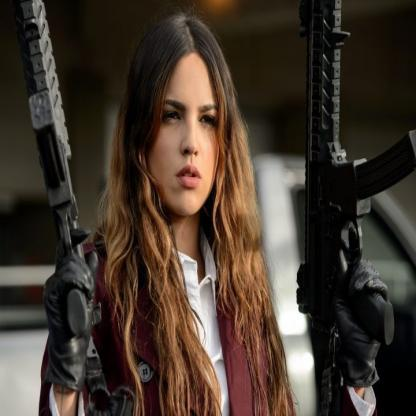gun: (291, 3, 416, 396), (11, 1, 106, 322)
